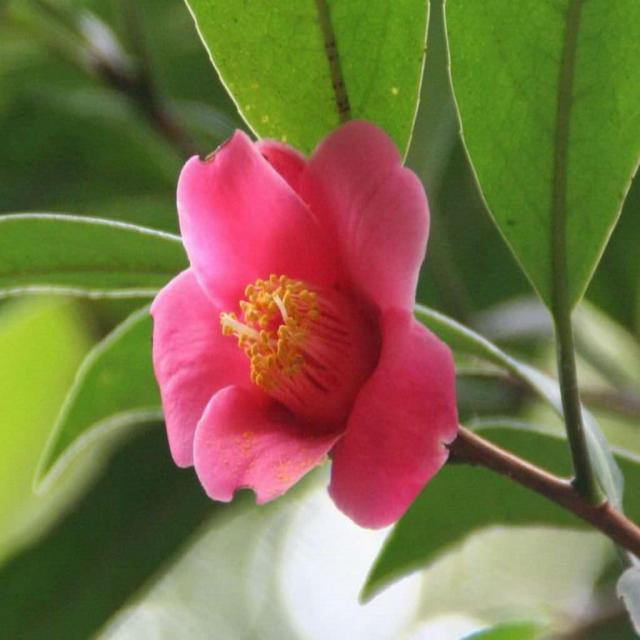organic waste: (148, 122, 492, 535)
